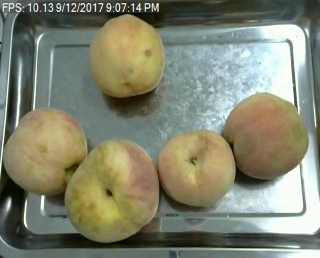Peach: (63, 139, 160, 243), (221, 92, 308, 179), (5, 109, 88, 195), (88, 15, 165, 97), (159, 129, 238, 207)
